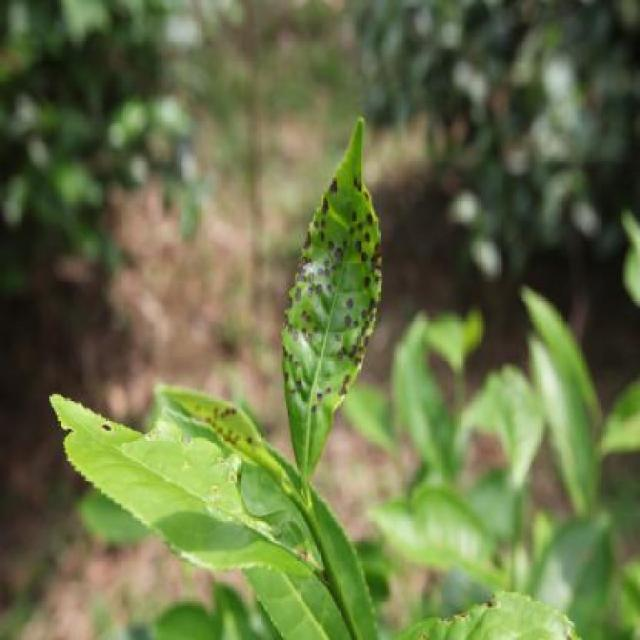Tea Mosquito bug infested leaf: (275, 111, 394, 478)
